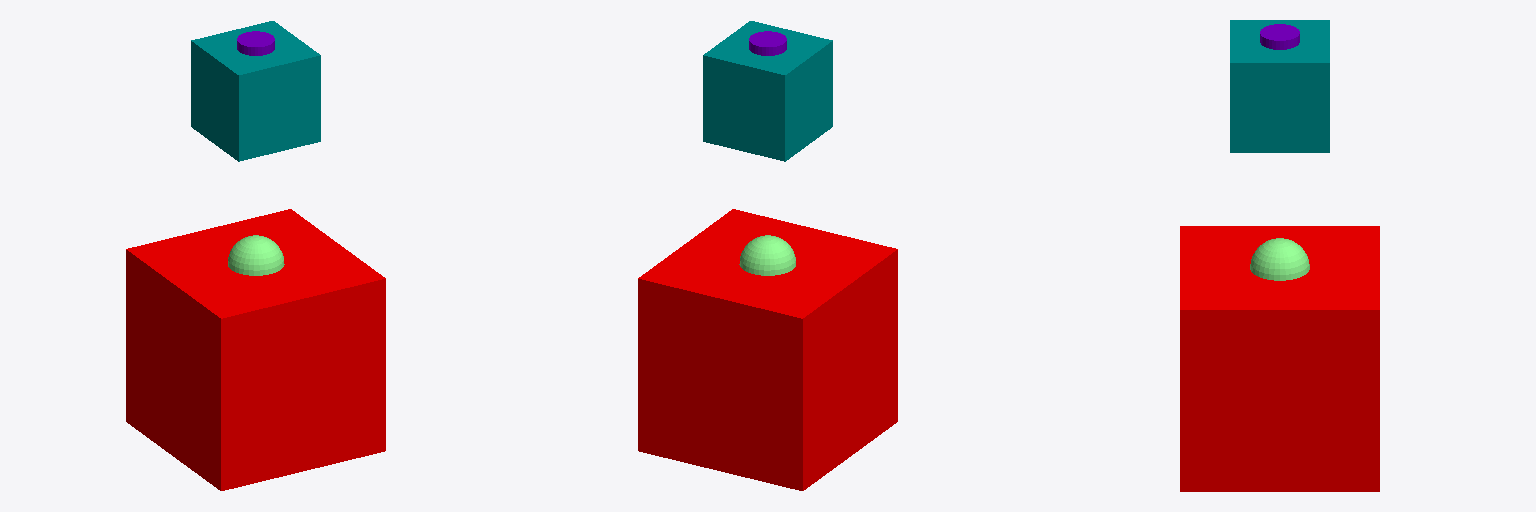
The robot description file, URDF, robot "collision_tree_test":
<?xml version="1.0"?>
<robot name="collision_tree_test">

  <!-- ========================= -->
  <!-- base_link : COLLISION -->
  <!-- ========================= -->
  <link name="base_link">
    <visual>
      <geometry><box size="0.2 0.2 0.2"/></geometry>
      <material name="red"><color rgba="1 0 0 1"/></material>
    </visual>
    <collision>
      <geometry><box size="0.2 0.2 0.2"/></geometry>
    </collision>
  </link>

  <joint name="base_to_mid1" type="fixed">
    <parent link="base_link"/>
    <child link="mid_link_1"/>
  </joint>

  <!-- ========================= -->
  <!-- mid_link_1 : NO COLLISION -->
  <!-- ========================= -->
  <link name="mid_link_1">
    <visual>
      <geometry><sphere radius="0.04"/></geometry>
      <material name="gray"><color rgba="0.7 0.7 0.7 1"/></material>
    </visual>
  </link>

  <!-- ========================= -->
  <!-- Branch 1 -->
  <!-- ========================= -->
  <joint name="mid1_to_b1a" type="revolute">
    <parent link="mid_link_1"/>
    <child link="branch1_linkA"/>
    <axis xyz="0 0 1"/>
    <limit lower="-1.0" upper="1.0" effort="5" velocity="2"/>
  </joint>

  <link name="branch1_linkA">
    <visual>
      <geometry><cylinder length="0.1" radius="0.03"/></geometry>
      <material name="green"><color rgba="0 1 0 1"/></material>
    </visual>
    <collision>
      <geometry><cylinder length="0.1" radius="0.03"/></geometry>
    </collision>
  </link>

  <joint name="b1a_to_b1b" type="fixed">
    <parent link="branch1_linkA"/>
    <child link="branch1_linkB"/>
    <origin rpy="0 0 0" xyz="0 0 0.1" />
  </joint>

  <link name="branch1_linkB">
    <visual>
      <geometry><sphere radius="0.03"/></geometry>
      <material name="lightgreen"><color rgba="0.6 1 0.6 1"/></material>
    </visual>
  </link>

  <!-- ========================= -->
  <!-- mid_link_2 : COLLISION -->
  <!-- ========================= -->
  <joint name="mid1_to_mid2" type="revolute">
    <parent link="mid_link_1"/>
    <child link="mid_link_2"/>
    <axis xyz="1 0 0"/>
    <limit lower="-0.5" upper="0.5" effort="5" velocity="2"/>
  </joint>

  <link name="mid_link_2">
    <visual>
      <geometry><sphere radius="0.05"/></geometry>
      <material name="blue"><color rgba="0 0 1 1"/></material>
    </visual>
    <collision>
      <geometry><sphere radius="0.05"/></geometry>
    </collision>
  </link>

  <!-- ========================= -->
  <!-- mid_link_3 : NO COLLISION -->
  <!-- ========================= -->
  <joint name="mid2_to_mid3" type="fixed">
    <parent link="mid_link_2"/>
    <child link="mid_link_3"/>
    <origin rpy="0 0 0" xyz="0 0 0.3"/>
  </joint>

  <link name="mid_link_3">
    <visual>
      <geometry><sphere radius="0.035"/></geometry>
      <material name="green"><color rgba="0 1 0 1"/></material>
    </visual>
  </link>

  <!-- ========================= -->
  <!-- Branch 2 -->
  <!-- ========================= -->
  <joint name="mid3_to_b2a" type="prismatic">
    <parent link="mid_link_3"/>
    <child link="branch2_linkA"/>
    <axis xyz="0 0 1"/>
    <limit lower="0" upper="0.1" effort="5" velocity="1"/>
  </joint>

  <link name="branch2_linkA">
    <visual>
      <geometry><sphere radius="0.03"/></geometry>
      <material name="cyan"><color rgba="0 1 1 1"/></material>
    </visual>
  </link>

  <joint name="b2a_to_b2b" type="fixed">
    <parent link="branch2_linkA"/>
    <child link="branch2_linkB"/>
  </joint>

  <link name="branch2_linkB">
    <visual>
      <geometry><box size="0.1 0.1 0.1"/></geometry>
      <material name="darkcyan"><color rgba="0 0.6 0.6 1"/></material>
    </visual>
    <collision>
      <geometry><box size="0.1 0.1 0.1"/></geometry>
    </collision>
  </link>

  <!-- ========================= -->
  <!-- Branch 3 -->
  <!-- ========================= -->
  <joint name="mid3_to_b3a" type="revolute">
    <parent link="mid_link_3"/>
    <child link="branch3_linkA"/>
    <axis xyz="0 1 0"/>
    <limit lower="-1.2" upper="1.2" effort="5" velocity="2"/>
  </joint>

  <link name="branch3_linkA">
    <visual>
      <geometry><cylinder length="0.12" radius="0.02"/></geometry>
      <material name="purple"><color rgba="0.5 0 0.8 1"/></material>
    </visual>
    <collision>
      <geometry><cylinder length="0.12" radius="0.02"/></geometry>
    </collision>
  </link>

  <joint name="b3a_to_b3b" type="fixed">
    <parent link="branch3_linkA"/>
    <child link="branch3_linkB"/>
  </joint>

  <link name="branch3_linkB">
    <visual>
      <geometry><sphere radius="0.04"/></geometry>
      <material name="pink"><color rgba="1 0.4 0.7 1"/></material>
    </visual>
    <collision>
      <geometry><sphere radius="0.04"/></geometry>
    </collision>
  </link>

</robot>

--- What the picture shows (computed from the rendered views, not written in the file) ---
Views: 3 orthographic renders of the robot side by side, from view 1: azimuth 30°, elevation 25°; view 2: azimuth 150°, elevation 25°; view 3: azimuth 270°, elevation 25°.
Robot: collision_tree_test — 10 links, 9 joints (3 revolute, 1 prismatic, 5 fixed); root link base_link; default pose: every joint at zero.
Visible links, largest first — view 1: base_link, branch2_linkB, branch1_linkB, branch3_linkA; view 2: base_link, branch2_linkB, branch1_linkB, branch3_linkA; view 3: base_link, branch2_linkB, branch1_linkB, branch3_linkA.
Link boxes in pixels (x1,y1,x2,y2): base_link: [126, 209, 385, 490]; branch2_linkB: [191, 21, 320, 161]; branch1_linkB: [228, 235, 284, 275]; branch3_linkA: [237, 31, 274, 55]; base_link: [638, 209, 897, 490]; branch2_linkB: [703, 21, 832, 161]; branch1_linkB: [739, 235, 795, 275]; branch3_linkA: [749, 31, 786, 55]; base_link: [1180, 226, 1379, 491]; branch2_linkB: [1230, 20, 1329, 152]; branch1_linkB: [1250, 238, 1309, 280]; branch3_linkA: [1260, 24, 1299, 49].
Size in the robot's own frame: 0.2 by 0.2 by 0.46 metres.
Geometry: primitives only (box / cylinder / sphere), no mesh files.
